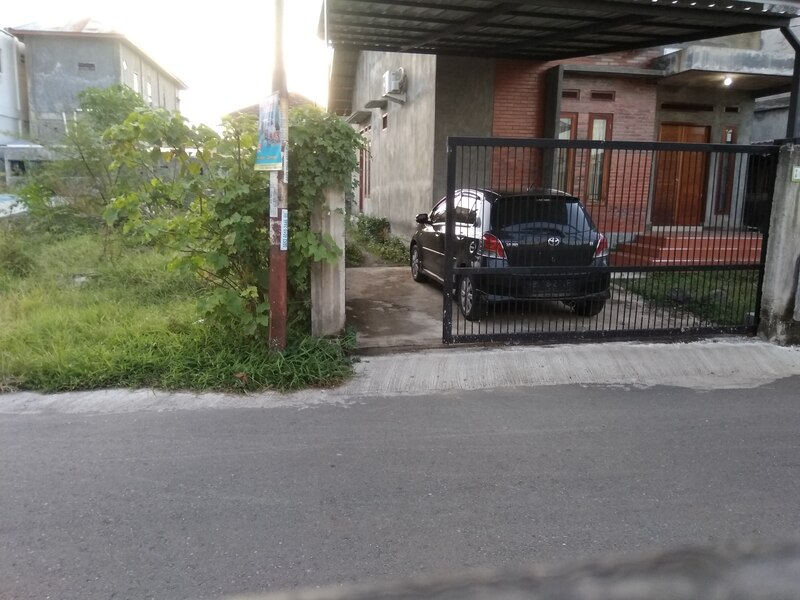car: (406, 180, 618, 328)
